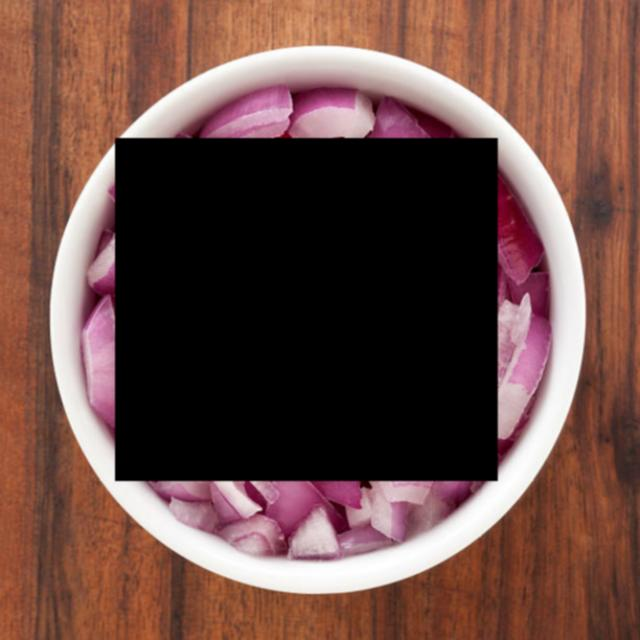Onion: (115, 139, 498, 482)
